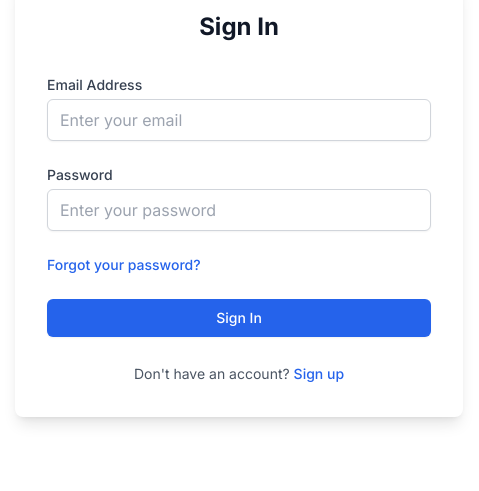
LoginForm › displays validation error for invalid email
In the field labelled "Email Address": (239, 120) [47, 99, 431, 141], type "invalid-email"
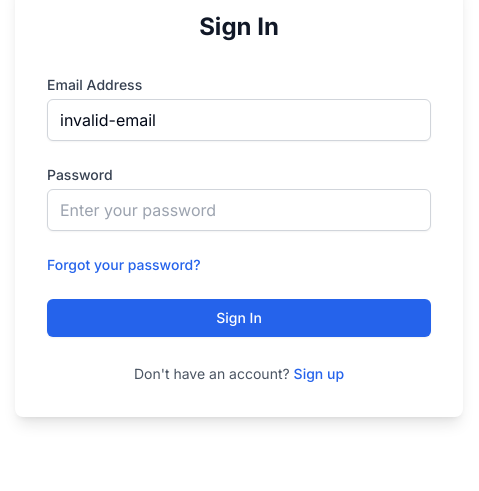
Submit the form with test id "login-form", box [47, 75, 431, 385]
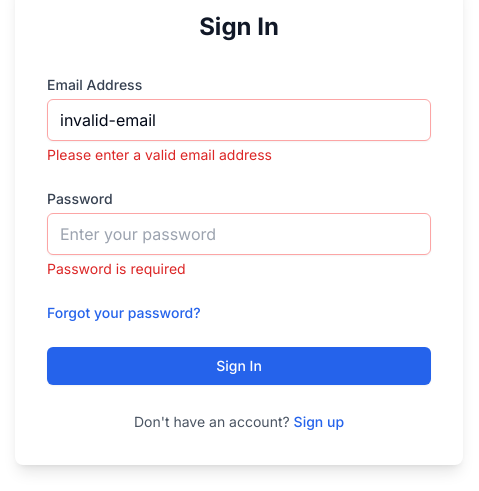
Result: the text "Please enter a valid email address" is shown at [47, 146, 272, 163]
